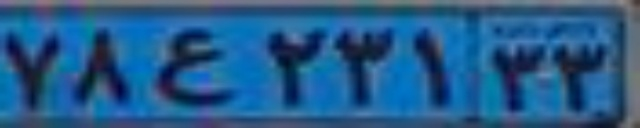1: (408, 25, 453, 106)
2: (262, 26, 327, 107)
3: (336, 24, 401, 107), (553, 40, 610, 113), (492, 41, 546, 111)
7: (4, 26, 59, 113)
8: (66, 24, 133, 104)
ain: (151, 26, 239, 106)
